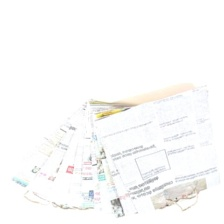news_paper: (0, 82, 222, 219)
